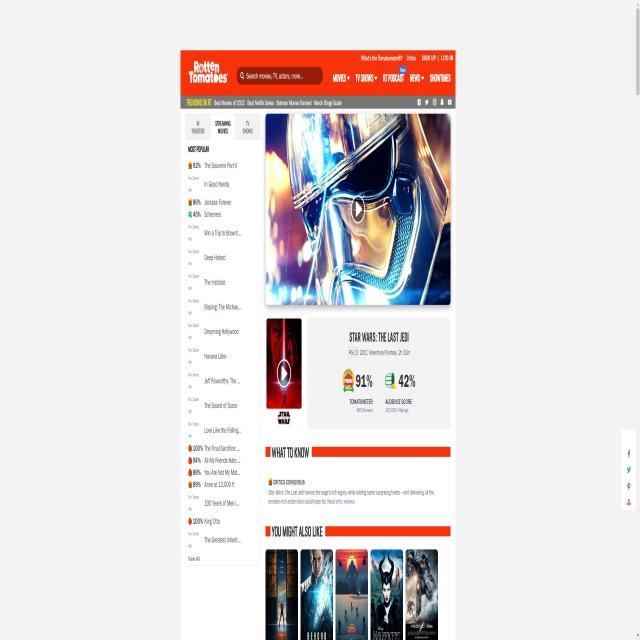content: (266, 477, 438, 508)
menu-bar: (356, 50, 454, 66)
search: (235, 64, 323, 89)
tab-bar: (328, 62, 454, 94), (183, 111, 258, 141)
